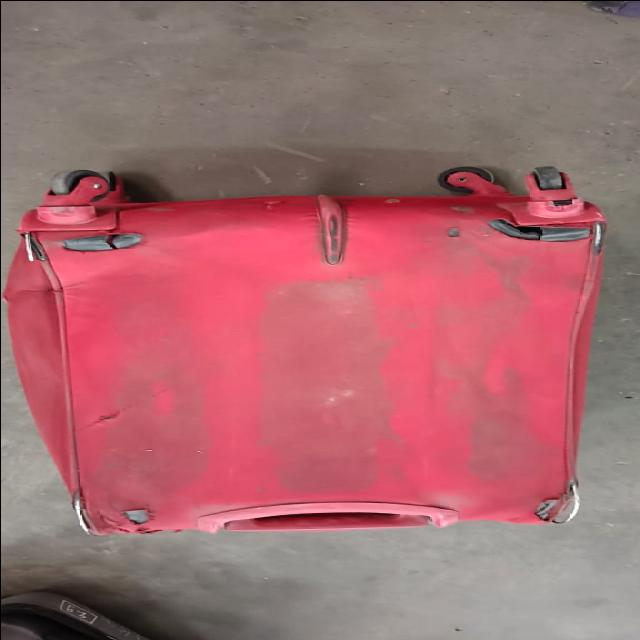Damage-bag: (354, 196, 604, 253), (18, 204, 148, 262), (65, 479, 180, 534), (82, 380, 176, 431), (511, 481, 579, 522)
